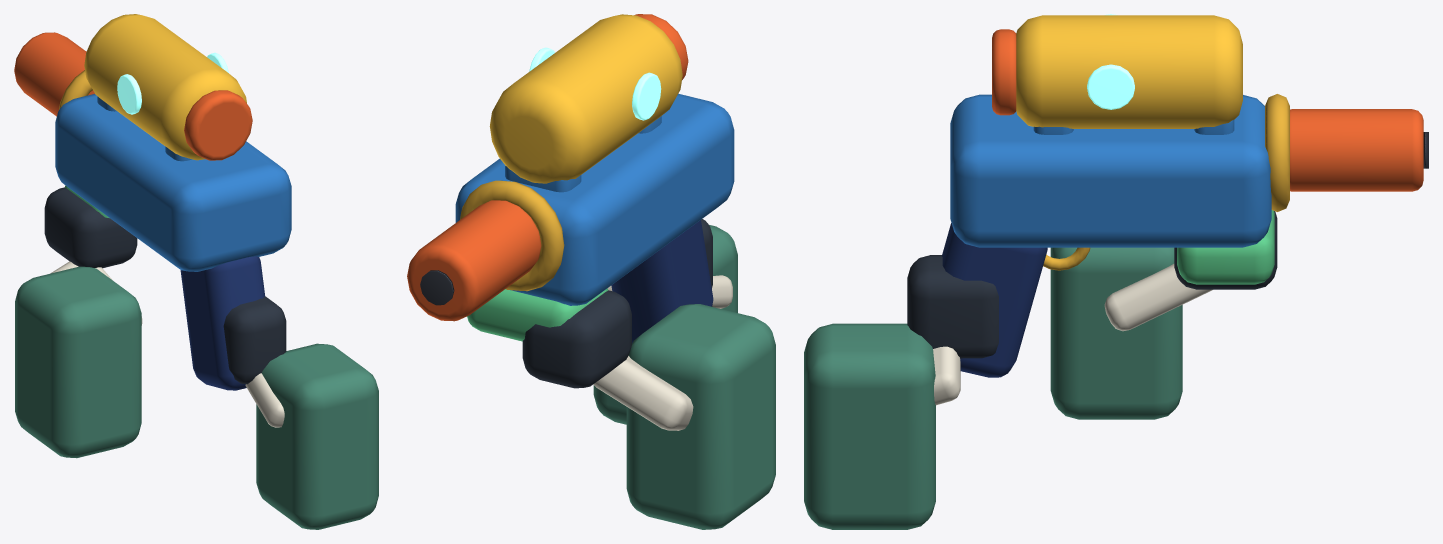
Rendered from water_blaster.glb.
3 renders of one model, left to right at view 1: azimuth 30°, elevation 25°; view 2: azimuth 150°, elevation 25°; view 3: azimuth 270°, elevation 25°, orthographic. The views are drawn at different scales.
Visible parts, largest first — view 1: water_blaster_toy_sleeve, water_blaster_toy_water, tank, water_blaster_toy_glove, water_blaster_toy_nozzle, grip, water_blaster_toy_cuff, water_blaster_toy_aqua, water_blaster_toy_gold; view 2: water_blaster_toy_sleeve, water_blaster_toy_water, tank, water_blaster_toy_nozzle, water_blaster_toy_glove, grip, water_blaster_toy_cuff, water_blaster_toy_gold, pump, water_blaster_toy_aqua, nozzle_mouth; view 3: water_blaster_toy_sleeve, water_blaster_toy_water, tank, water_blaster_toy_nozzle, water_blaster_toy_glove, grip, water_blaster_toy_cuff, pump, water_blaster_toy_gold, water_blaster_toy_aqua.
Boxes of the visible parts, left/top/right/bottom form: water_blaster_toy_sleeve: left=15, top=266, right=378, bottom=529; water_blaster_toy_water: left=55, top=94, right=291, bottom=271; tank: left=84, top=14, right=246, bottom=160; water_blaster_toy_glove: left=44, top=187, right=286, bottom=384; water_blaster_toy_nozzle: left=14, top=32, right=252, bottom=160; grip: left=180, top=256, right=264, bottom=390; water_blaster_toy_cuff: left=50, top=261, right=284, bottom=427; water_blaster_toy_aqua: left=117, top=52, right=228, bottom=114; water_blaster_toy_gold: left=59, top=70, right=92, bottom=109; water_blaster_toy_sleeve: left=593, top=225, right=775, bottom=529; water_blaster_toy_water: left=455, top=93, right=734, bottom=305; tank: left=489, top=14, right=682, bottom=183; water_blaster_toy_nozzle: left=407, top=14, right=688, bottom=321; water_blaster_toy_glove: left=522, top=219, right=712, bottom=388; grip: left=611, top=220, right=713, bottom=343; water_blaster_toy_cuff: left=593, top=275, right=732, bottom=430; water_blaster_toy_gold: left=460, top=180, right=564, bottom=291; pump: left=467, top=288, right=608, bottom=341; water_blaster_toy_aqua: left=529, top=47, right=661, bottom=120; nozzle_mouth: left=420, top=270, right=454, bottom=305; water_blaster_toy_sleeve: left=804, top=247, right=1182, bottom=529; water_blaster_toy_water: left=950, top=94, right=1271, bottom=247; tank: left=1016, top=15, right=1242, bottom=128; water_blaster_toy_nozzle: left=992, top=29, right=1423, bottom=191; water_blaster_toy_glove: left=907, top=211, right=1277, bottom=358; grip: left=942, top=223, right=1047, bottom=377; water_blaster_toy_cuff: left=933, top=264, right=1212, bottom=405; pump: left=1177, top=210, right=1274, bottom=284; water_blaster_toy_gold: left=1043, top=94, right=1289, bottom=270; water_blaster_toy_aqua: left=1087, top=14, right=1134, bottom=109.
Bounding box in the file's own units: 0.525 × 0.905 × 1.09.
